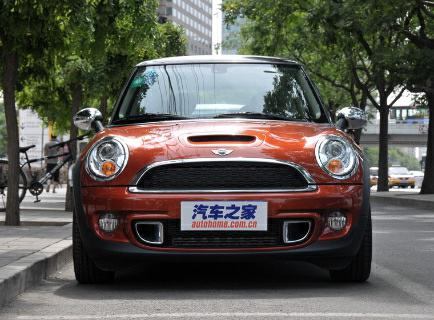MINI: (50, 59, 390, 284)
